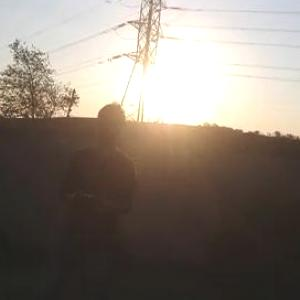follow: (54, 100, 141, 299)
